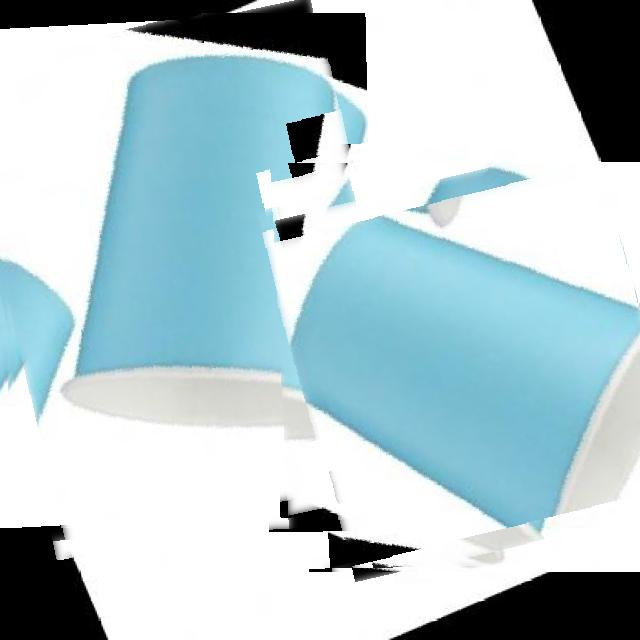non-biodegradable: (0, 13, 388, 543), (270, 163, 640, 569)
